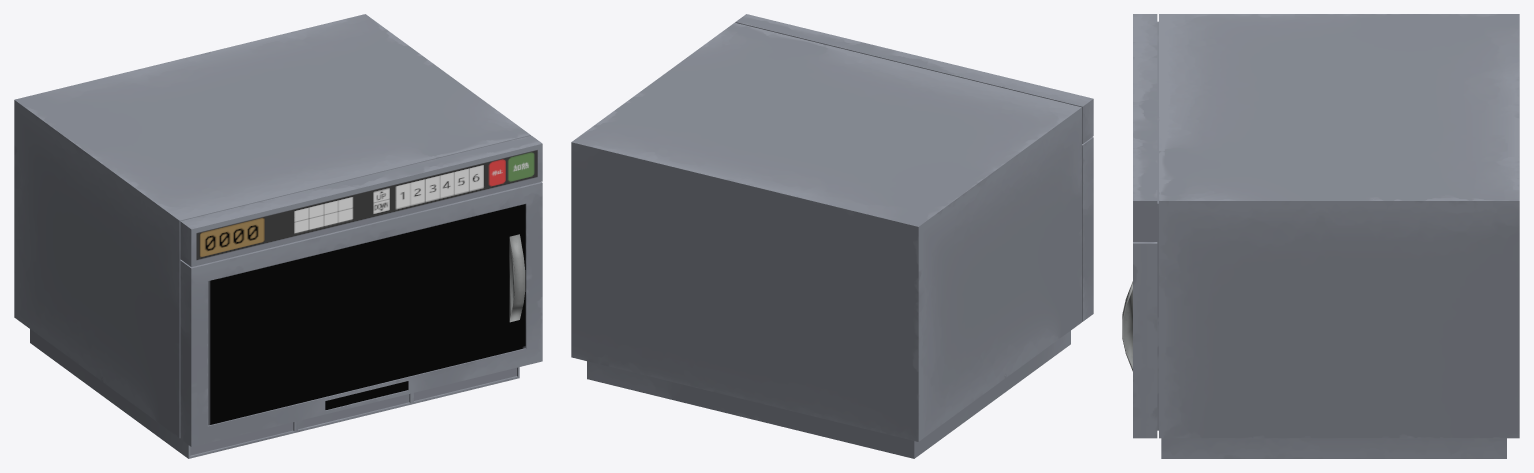
File: model06_microWave.glb
3 views of the same model, side by side, from view 1: azimuth 30°, elevation 25°; view 2: azimuth 150°, elevation 25°; view 3: azimuth 270°, elevation 25° (orthographic). The views are drawn at different scales.
Parts seen in each view (by area): view 1: microWave; view 2: microWave; view 3: microWave.
Boxes of the visible parts, left/top/right/bottom form: microWave: left=14, top=14, right=542, bottom=458; microWave: left=571, top=14, right=1093, bottom=458; microWave: left=1122, top=14, right=1519, bottom=458.
Size of the model in its own units: 1.66 by 1.09 by 1.49.
Materials: 1 (1 with a texture image).
